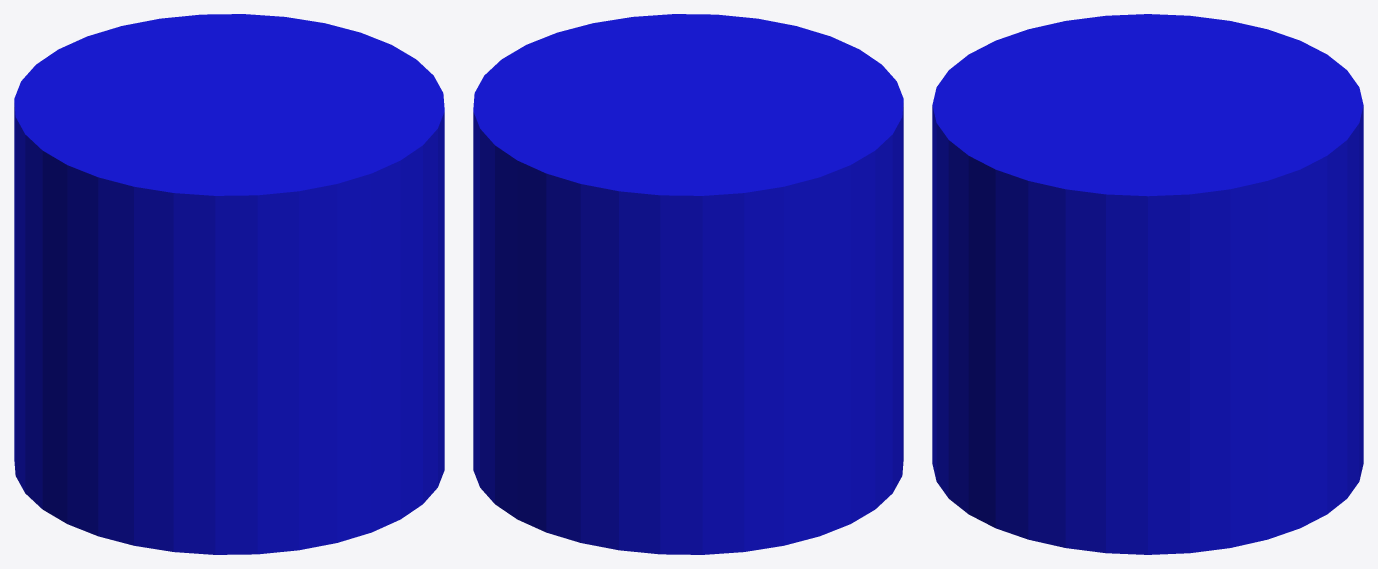
The model's file is 3DSPECIMENLIQUID.dae.
3 views of the same model, side by side, from view 1: azimuth 30°, elevation 25°; view 2: azimuth 150°, elevation 25°; view 3: azimuth 270°, elevation 25° (orthographic).
Visible parts, largest first — view 1: Cylinder.012; view 2: Cylinder.012; view 3: Cylinder.012.
Boxes of the visible parts, box(x1,y1,x2,y2) form: Cylinder.012: box(14, 14, 444, 554); Cylinder.012: box(473, 14, 903, 554); Cylinder.012: box(932, 14, 1363, 554).
Size of the model in its own units: 0.0382 by 0.0382 by 0.0351.
